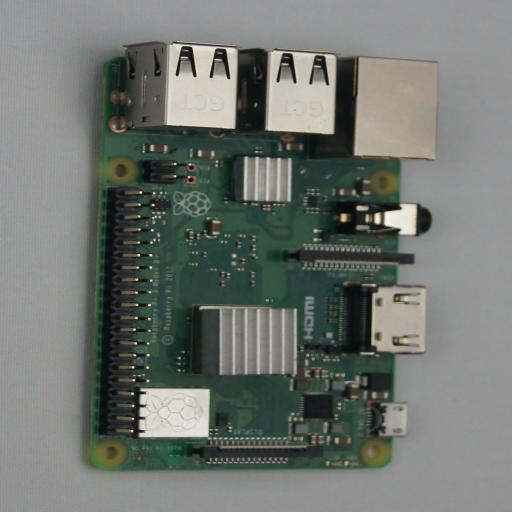Raspberry Pi 3 B-: (81, 41, 434, 471)
